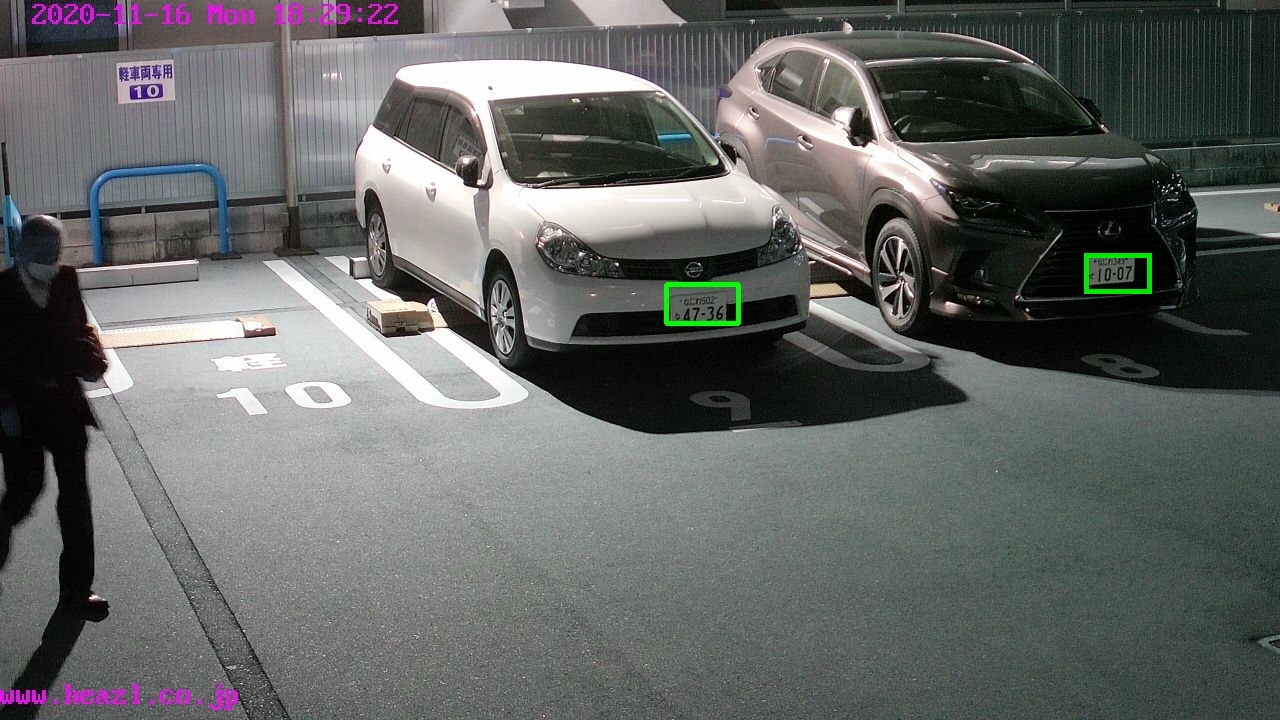number_plate: (1082, 253, 1138, 286), (671, 294, 728, 326)
